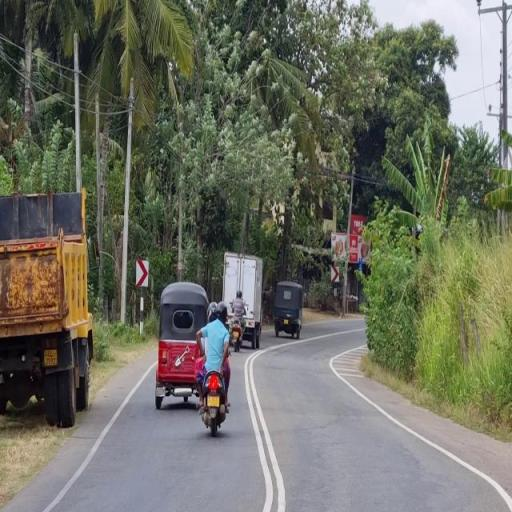double_white_line: (42, 360, 151, 510), (245, 346, 290, 512)
